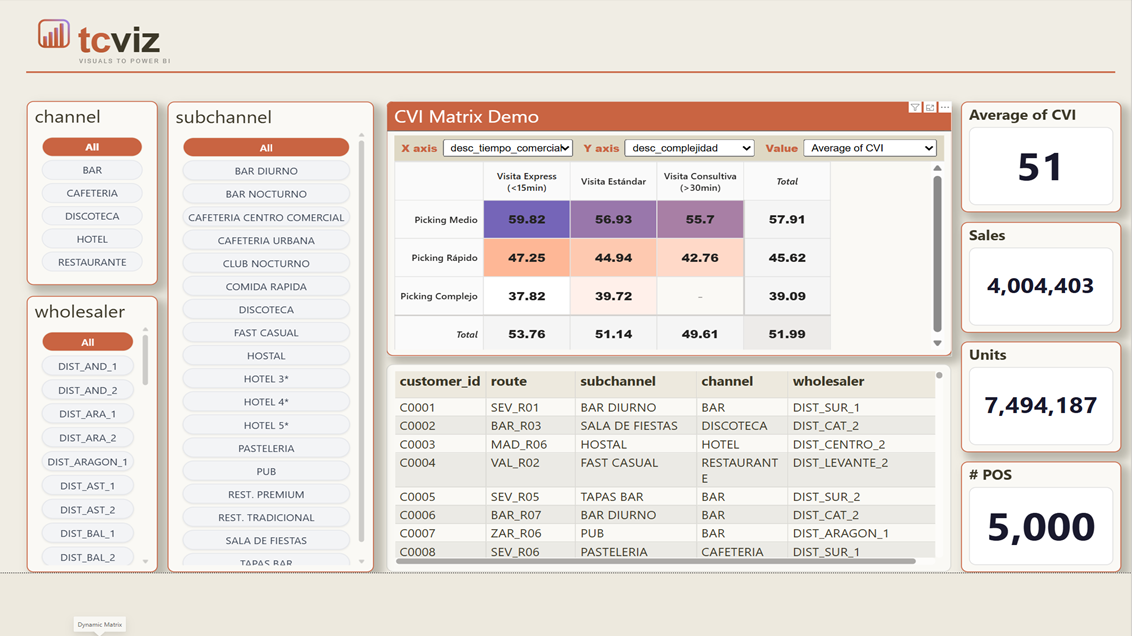

The page's visual inventory and layout, read from the dashboard file:
{"tool":"powerbi","page":{"name":"Dynamic Matrix","canvas":[1280,720],"ordinal":0},"visuals":[{"type":"image","box":[32.1,11.8,185.5,80.6],"z":0},{"type":"shape","box":[32.1,68.2,1230.4,47.9],"z":1000},{"type":"dynamicMatrixHeatmap790912782D2A48CE80E680D64C793458_test","title":"CVI Matrix Demo","fields":{"dimensions":["logistic_score_dataset.desc_complejidad","logistic_score_dataset.desc_distancia","logistic_score_dataset.desc_esfuerzo_entrega","logistic_score_dataset.desc_frecuencia_comercial","logistic_score_dataset.desc_rechazo","logistic_score_dataset.desc_tiempo_comercial","logistic_score_dataset.desc_ventas","logistic_score_dataset.desc_volumen"],"measures":["Avg(logistic_score_dataset.CVI)","Sum(logistic_score_dataset.total_sales)","Divide(Sum(logistic_score_dataset.total_sales), ScopedEval(Sum(logistic_score_dataset.total_sales), []))","Sum(logistic_score_dataset.total_pedidos)","Sum(logistic_score_dataset.total_volume)"],"distinctFields":["logistic_score_dataset.customer_id"]},"box":[439,128.4,638.7,320.3],"z":2000},{"type":"chipSlicerPro","fields":{"category":["maestro_clientes_horeca_5000.channel"]},"box":[32.4,128.4,148.5,231.5],"z":2001},{"type":"chipSlicerFree","fields":{"category":["maestro_clientes_horeca_5000.wholesaler"]},"box":[32.4,372.8,148.5,346.9],"z":2002},{"type":"tableEx","fields":{"Values":["maestro_clientes_horeca_5000.customer_id","maestro_clientes_horeca_5000.route","maestro_clientes_horeca_5000.subchannel","maestro_clientes_horeca_5000.channel","maestro_clientes_horeca_5000.wholesaler"]},"box":[439,458.4,638.1,261.3],"z":2003},{"type":"simpleCardPro8E70690E06BD4DD98F31050F64B6E5C6","fields":{"measure":["Avg(logistic_score_dataset.CVI)"]},"box":[1088,128.9,180.5,139],"z":2004},{"type":"simpleCardPro8E70690E06BD4DD98F31050F64B6E5C6","title":"Sales","fields":{"measure":["Sum(logistic_score_dataset.total_sales)"]},"box":[1088,280.1,180.5,139],"z":2005},{"type":"simpleCardPro8E70690E06BD4DD98F31050F64B6E5C6","title":"Units","fields":{"measure":["Sum(logistic_score_dataset.total_units)"]},"box":[1088,430.5,180.5,139],"z":2006},{"type":"simpleCardPro8E70690E06BD4DD98F31050F64B6E5C6","title":"# POS","fields":{"measure":["Count(logistic_score_dataset.customer_id)"]},"box":[1088,580.9,180.5,139],"z":2007},{"type":"chipSlicerFree","fields":{"category":["maestro_clientes_horeca_5000.subchannel"]},"box":[191.9,129,232.8,590.7],"z":2008}]}

Visuals, with their boxes in screenshot pixels (x1, y1, x2, y2), scaled from the page's 1280x720 canvas onto the 1132x636 screenshot:
image: {"x1": 28, "y1": 10, "x2": 192, "y2": 82}
shape: {"x1": 28, "y1": 60, "x2": 1117, "y2": 103}
"CVI Matrix Demo" dynamicMatrixHeatmap790912782D2A48CE80E680D64C793458_test: {"x1": 388, "y1": 113, "x2": 953, "y2": 396}
chipSlicerPro - maestro_clientes_horeca_5000.channel: {"x1": 29, "y1": 113, "x2": 160, "y2": 318}
chipSlicerFree - maestro_clientes_horeca_5000.wholesaler: {"x1": 29, "y1": 329, "x2": 160, "y2": 635}
tableEx - maestro_clientes_horeca_5000.customer_id x maestro_clientes_horeca_5000.route: {"x1": 388, "y1": 405, "x2": 953, "y2": 635}
simpleCardPro8E70690E06BD4DD98F31050F64B6E5C6 - Avg(logistic_score_dataset.CVI): {"x1": 962, "y1": 114, "x2": 1122, "y2": 237}
"Sales" simpleCardPro8E70690E06BD4DD98F31050F64B6E5C6: {"x1": 962, "y1": 247, "x2": 1122, "y2": 370}
"Units" simpleCardPro8E70690E06BD4DD98F31050F64B6E5C6: {"x1": 962, "y1": 380, "x2": 1122, "y2": 503}
"# POS" simpleCardPro8E70690E06BD4DD98F31050F64B6E5C6: {"x1": 962, "y1": 513, "x2": 1122, "y2": 635}
chipSlicerFree - maestro_clientes_horeca_5000.subchannel: {"x1": 170, "y1": 114, "x2": 376, "y2": 635}
